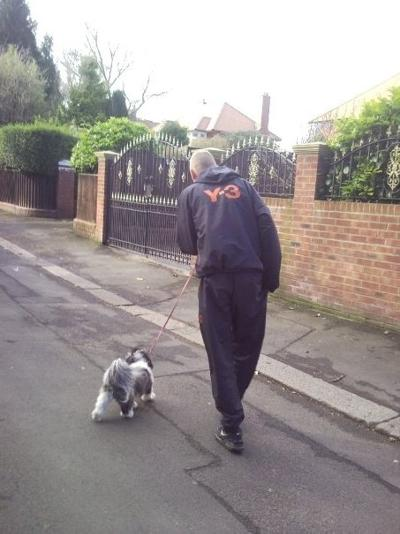person: (177, 151, 280, 446)
